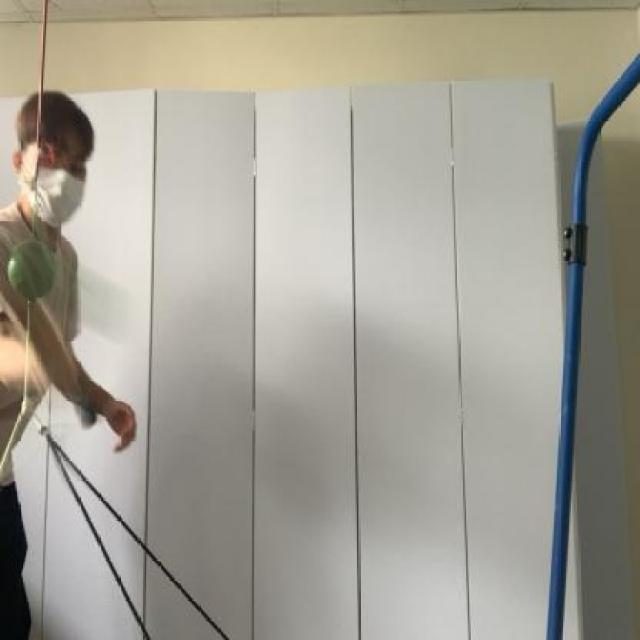baseball: (8, 234, 144, 335)
